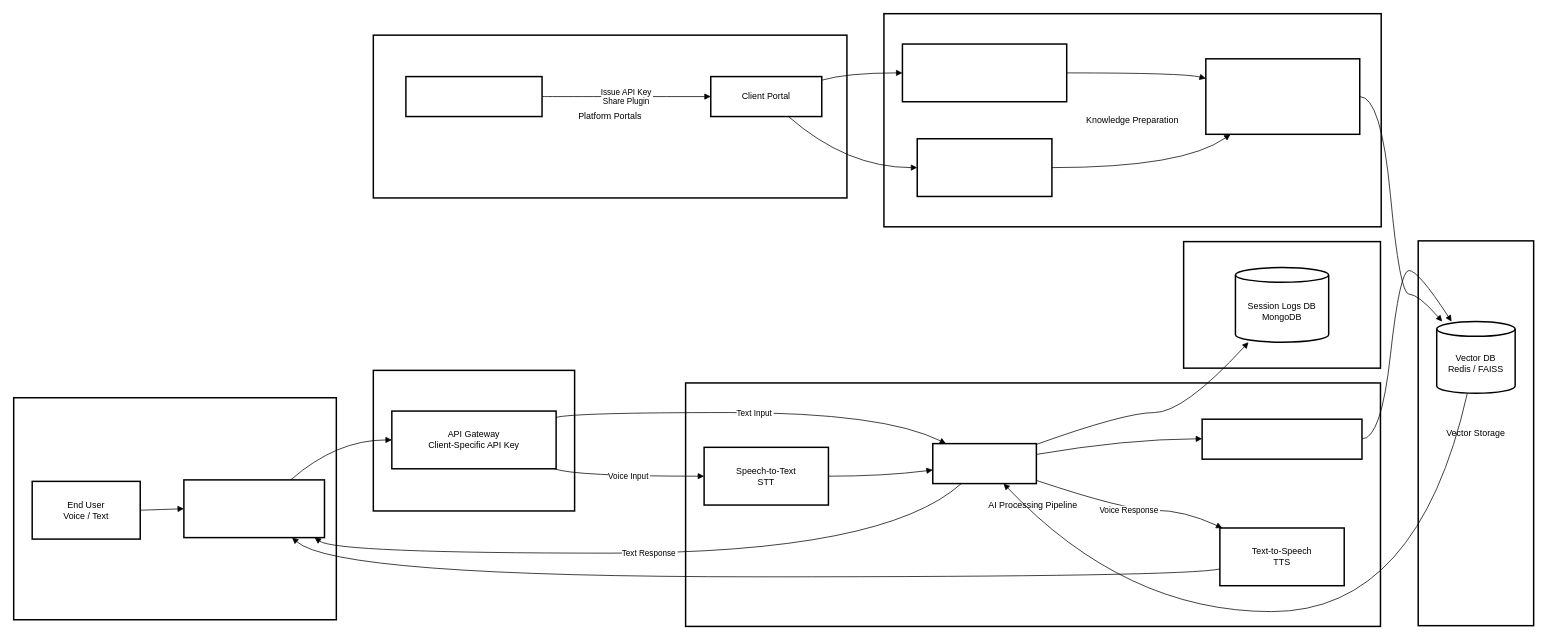
Some shapes in this 1547 by 639 pixel diagram are drawn without their labels. The centre of each missing label's shape, as x and y in pixels:
"Admin Dashboard" goes at (x=473, y=96).
"Admin Preprocessing Cleaning, Chunking, Embedding" goes at (x=1282, y=96).
"AI Assistant Plugin React / Angular" goes at (x=254, y=508).
"Client Knowledge Base PDFs, Docs" goes at (x=984, y=72).
"Embedding Generator" goes at (x=1281, y=439).
"LLM Engine" goes at (x=984, y=463).
"Website Scraping Permissions" goes at (x=984, y=167).
